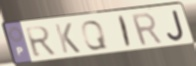I: (118, 14, 133, 50)
J: (165, 9, 186, 42)
K: (53, 22, 83, 55)
Q: (79, 19, 110, 52)
R: (129, 11, 165, 48), (23, 25, 58, 60)
